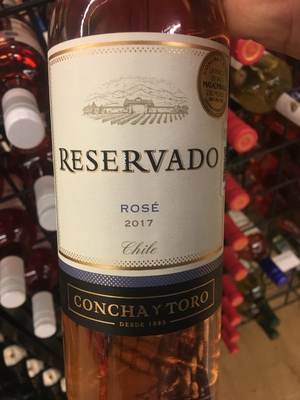reservado rose: (49, 19, 222, 400)
